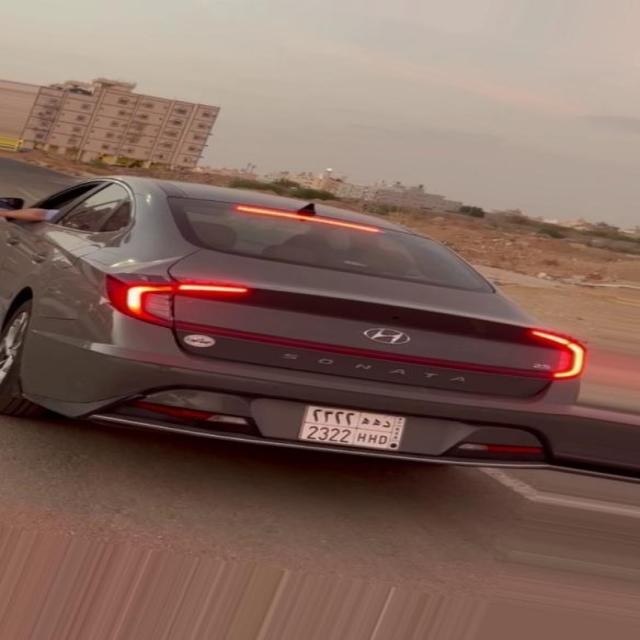Car-plate: (288, 401, 416, 462)
